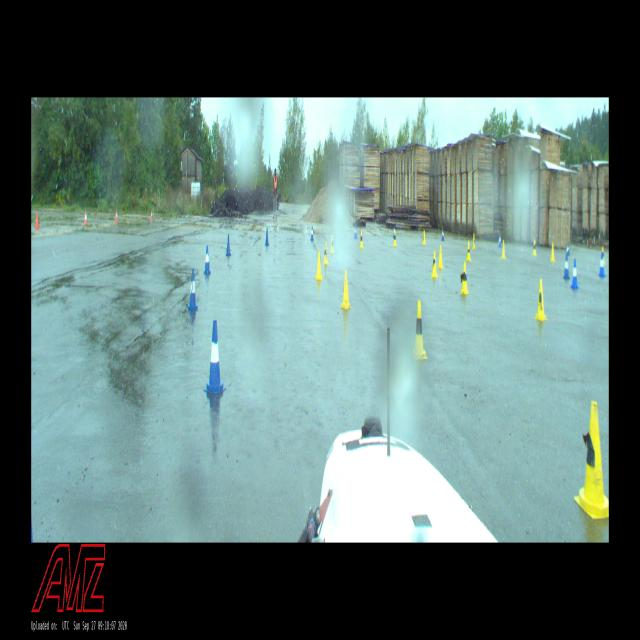blue_cone: (204, 320, 226, 394), (186, 270, 198, 311), (204, 245, 212, 275), (571, 259, 579, 289), (598, 252, 606, 277), (563, 253, 570, 280), (226, 234, 231, 256), (265, 228, 269, 245), (310, 224, 314, 240), (566, 241, 570, 256), (392, 224, 396, 239), (441, 228, 445, 241), (498, 233, 501, 247), (354, 226, 357, 238)
orange_cone: (35, 213, 40, 229), (84, 209, 88, 226), (115, 210, 118, 222), (151, 208, 153, 220)
yellow_cone: (574, 401, 609, 519), (412, 300, 427, 360), (534, 279, 548, 321), (340, 268, 351, 310), (460, 262, 469, 294), (315, 250, 323, 280), (431, 250, 438, 278), (437, 246, 444, 269), (323, 241, 329, 264), (466, 240, 472, 262), (501, 239, 506, 259), (550, 242, 555, 262), (359, 231, 364, 248), (601, 246, 605, 264), (330, 235, 334, 252), (393, 230, 397, 247), (532, 240, 536, 256), (472, 234, 476, 249), (422, 230, 426, 245)
